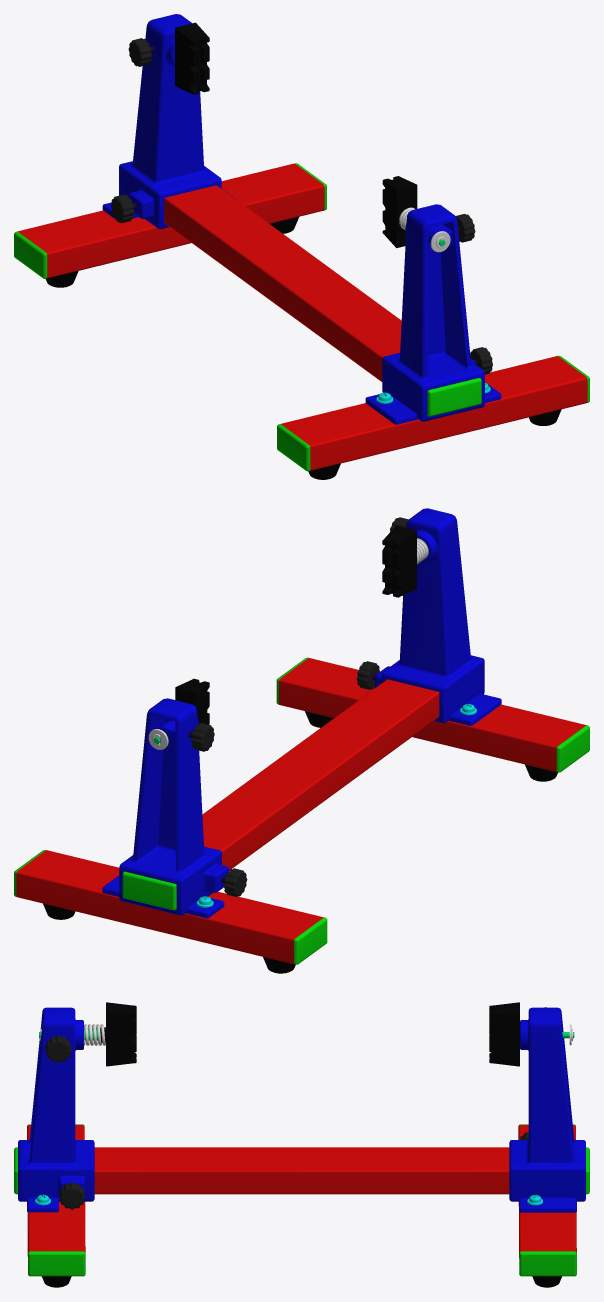
The model's file is Держатель плат.fbx.
3 views of the same model, one above another, from view 1: azimuth 30°, elevation 25°; view 2: azimuth 150°, elevation 25°; view 3: azimuth 270°, elevation 25° (orthographic). The views are drawn at different scales.
Visible parts, largest first — view 1: Column_left, Column_right, Profil_osevoy, Zajim_right, Zajim_left; view 2: Column_right, Column_left, Profil_osevoy, Zajim_left, Zajim_right; view 3: Profil_osevoy, Column_right, Column_left, Zajim_left, Zajim_right, Barashek_upper_left_part_TRANSLATE_and_ROTATE_IT, Barashek_lower_left_part_TRANSLATE_and_ROTATE_IT, Spring_SCALE_IT.
Part boxes in pixels (bbox=[...]): Column_left: bbox=[277, 204, 589, 479]; Column_right: bbox=[14, 14, 326, 287]; Profil_osevoy: bbox=[164, 185, 481, 416]; Zajim_right: bbox=[175, 22, 209, 94]; Zajim_left: bbox=[382, 176, 445, 248]; Column_right: bbox=[14, 698, 327, 973]; Column_left: bbox=[276, 508, 589, 781]; Profil_osevoy: bbox=[122, 679, 439, 910]; Zajim_left: bbox=[382, 525, 416, 597]; Zajim_right: bbox=[153, 678, 209, 743]; Profil_osevoy: bbox=[14, 1147, 589, 1194]; Column_right: bbox=[509, 1007, 585, 1287]; Column_left: bbox=[18, 1007, 94, 1287]; Zajim_left: bbox=[39, 1002, 136, 1066]; Zajim_right: bbox=[489, 1002, 574, 1066]; Barashek_upper_left_part_TRANSLATE_and_ROTATE_IT: bbox=[45, 1035, 71, 1062]; Barashek_lower_left_part_TRANSLATE_and_ROTATE_IT: bbox=[59, 1182, 84, 1209]; Spring_SCALE_IT: bbox=[84, 1024, 105, 1045].
Size of the model in its own units: 16 by 12.98 by 30.
